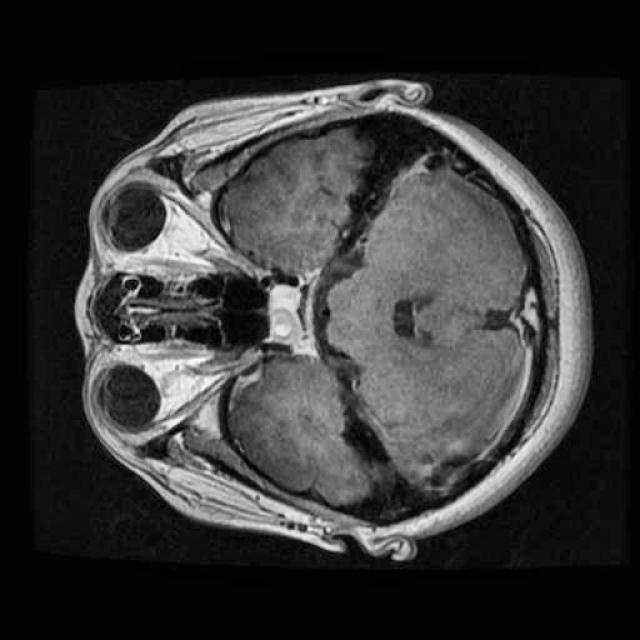Tumor: (256, 275, 326, 371)
